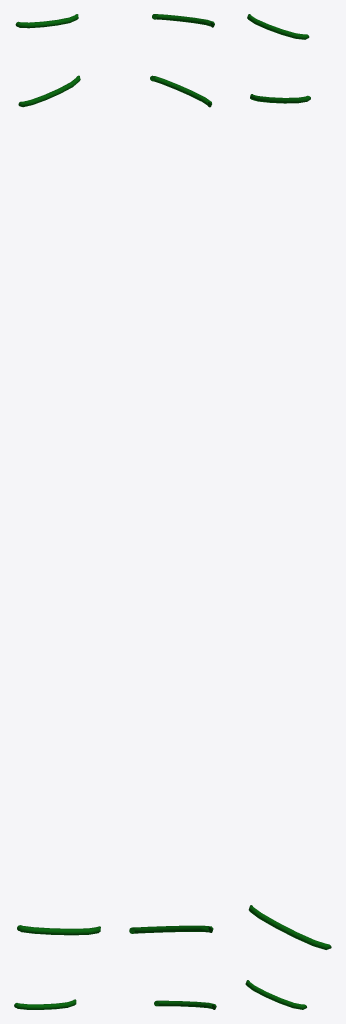
File: SM_VineSet.002.fbx
The picture shows the model from 3 angles, left to right: view 1: azimuth 30°, elevation 25°; view 2: azimuth 150°, elevation 25°; view 3: azimuth 330°, elevation 25°; orthographic projection.
Parts seen in each view (by area): view 1: SM_VineSet_002; view 2: SM_VineSet_002; view 3: SM_VineSet_002.
Boxes of the visible parts, x1,y1,x2,y2 form: SM_VineSet_002: [14, 14, 100, 1009]; SM_VineSet_002: [129, 14, 216, 1009]; SM_VineSet_002: [245, 14, 331, 1009].
Size of the model in its own units: 7.48 by 69.9 by 769.
